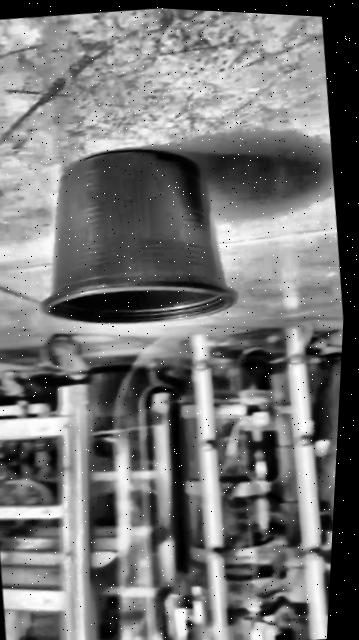pot: (22, 134, 247, 340)
